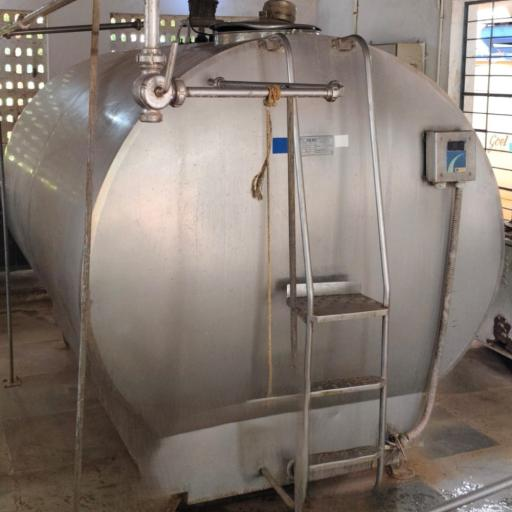silo: (0, 18, 506, 509)
